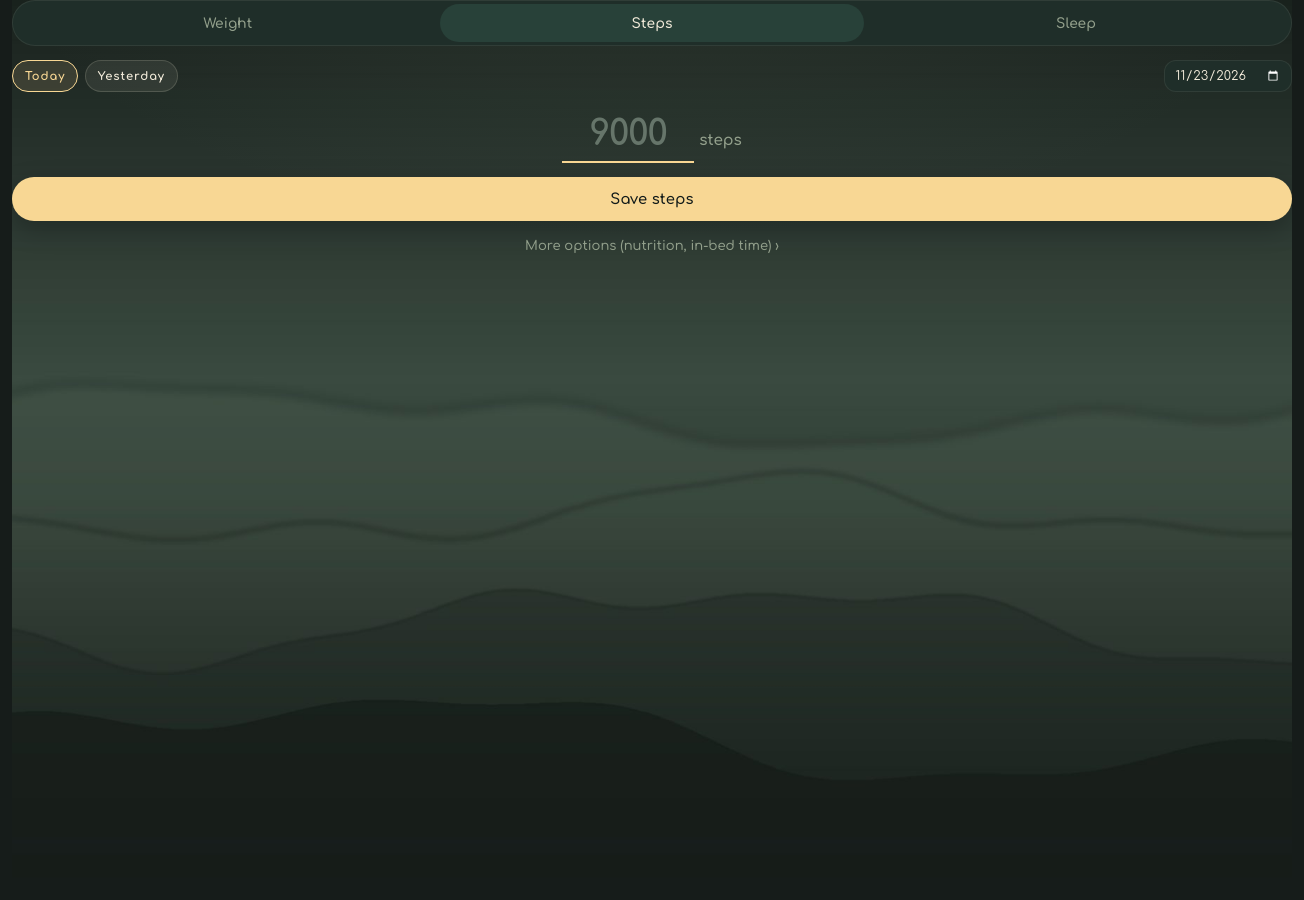
Test: QuickLogForm › refuses to post an empty step count
Click the button "Save steps": (652, 199) [12,177,1292,221]
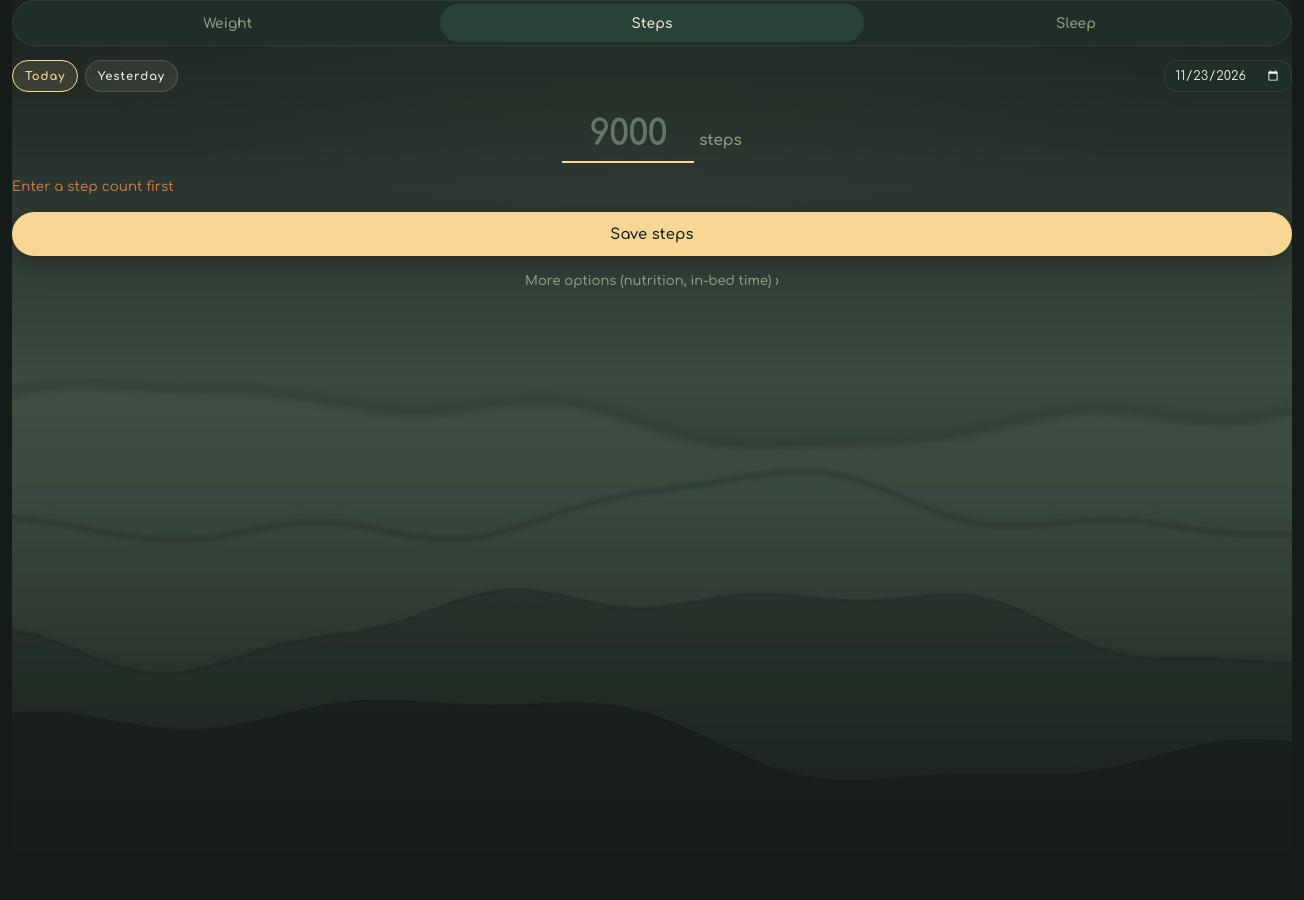
Expected: the message "Enter a step count first" is shown, [12,179,174,194]
